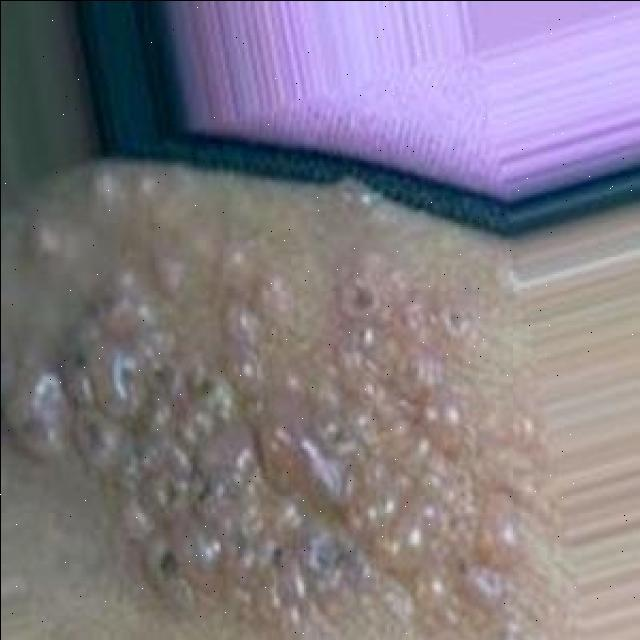Shingles: (13, 167, 537, 625)
